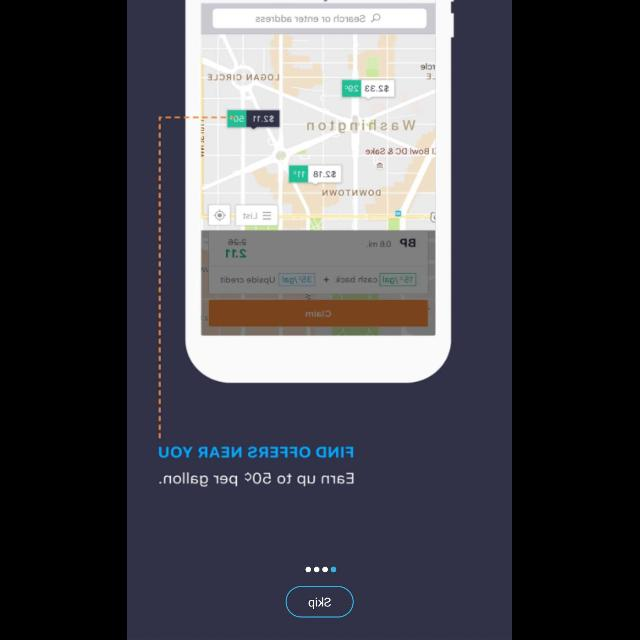image: (185, 1, 455, 383)
pageindicator: (306, 566, 338, 574)
text: (160, 472, 356, 488), (159, 446, 355, 459)
textbutton: (287, 586, 355, 618)
